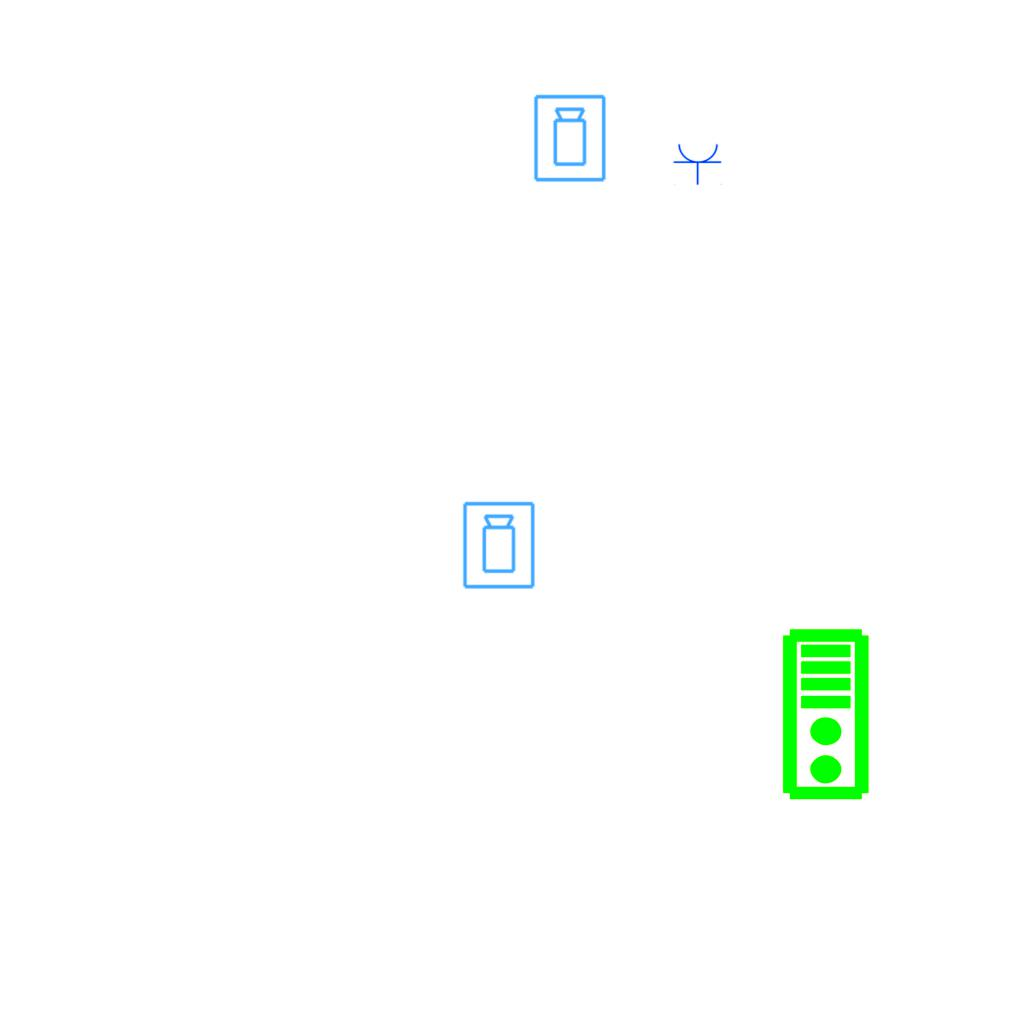Gegensprechanlage_mit_Video: (780, 627, 875, 803)
KFO_Kamera_mit_Festobjektiv: (532, 93, 609, 184), (461, 500, 538, 591)
Schukosteckdose_einfach: (673, 142, 723, 185)
